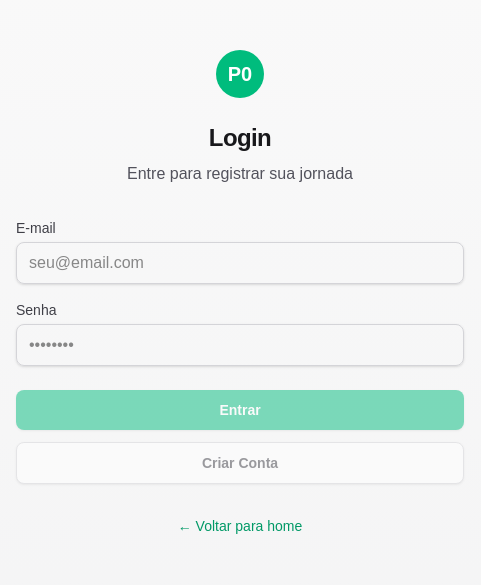
it: Login page › shows error message on failed login
In the field labelled "E-mail": (240, 263) [16, 242, 464, 284], type "bad@example.com"
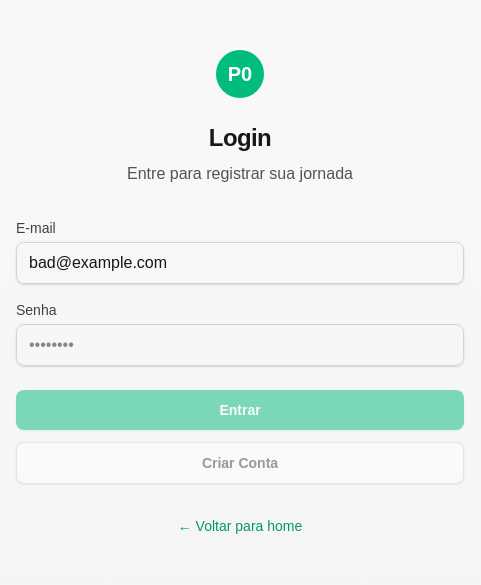
In the password field labelled "Senha": (240, 345) [16, 324, 464, 366], type "badpassword"
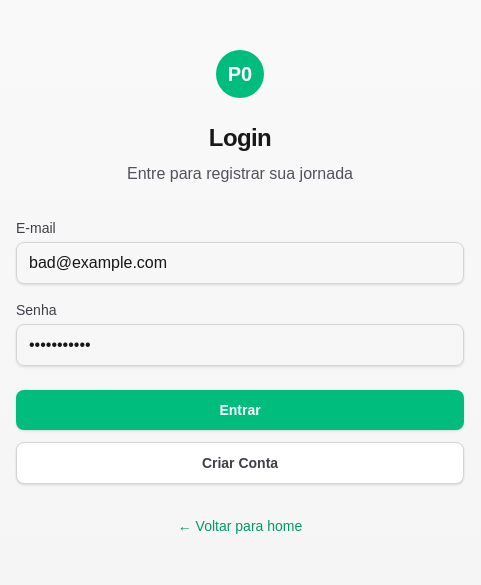
Click the button "Entrar": (240, 410) [16, 390, 464, 430]
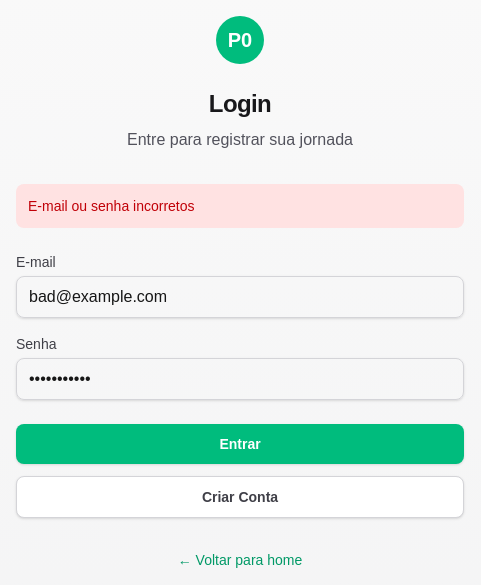
expect the text "E-mail ou senha incorretos" is shown: met, box [16, 184, 464, 228]
